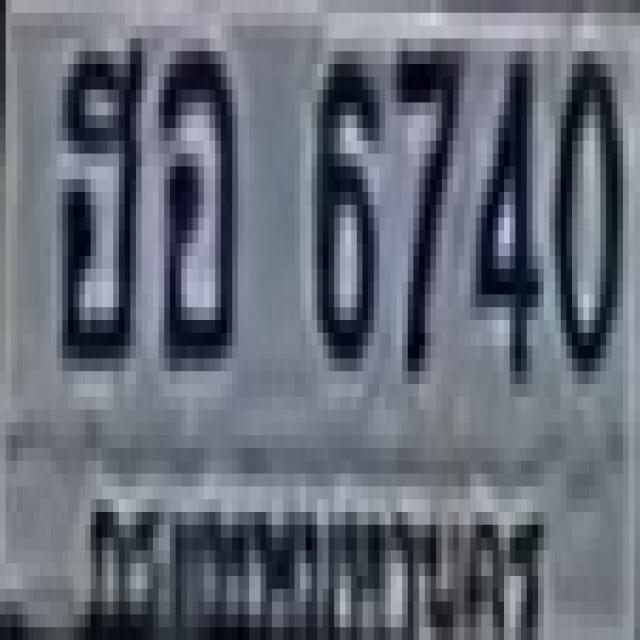0: (550, 39, 618, 372)
4: (470, 39, 532, 372)
6: (311, 39, 374, 358)
7: (391, 39, 459, 358)
A43: (153, 39, 232, 358)
A44: (56, 26, 142, 358)
BKK: (69, 466, 550, 640)
